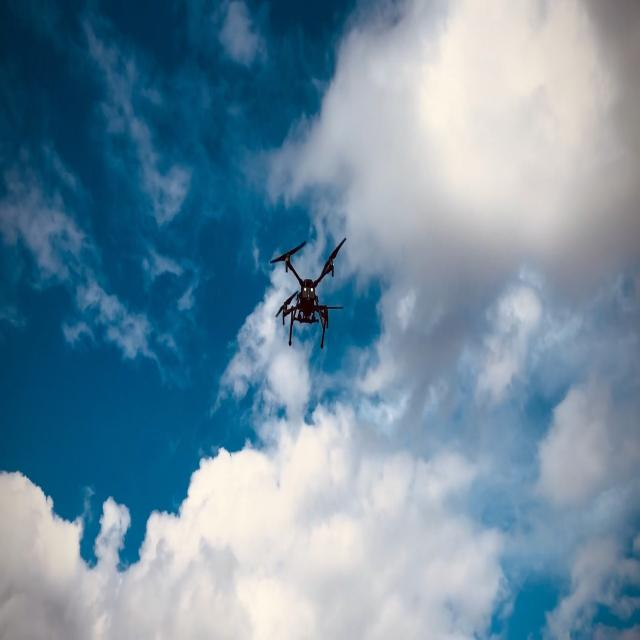drone: (269, 236, 347, 349)
